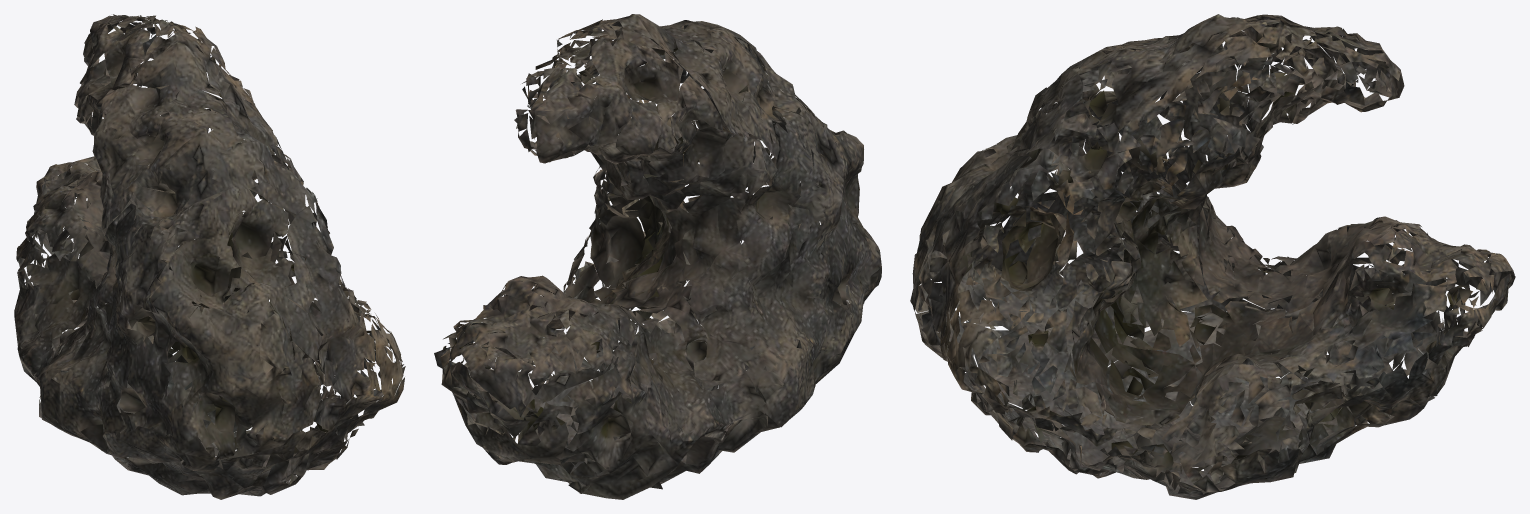
The model's file is asteroid_rare_4_lod1.glb.
3 views of the same model, side by side, from view 1: azimuth 30°, elevation 25°; view 2: azimuth 150°, elevation 25°; view 3: azimuth 270°, elevation 25° (orthographic). The views are drawn at different scales.
Parts seen in each view (by area): view 1: model; view 2: model; view 3: model.
Part boxes in pixels (left/top/right/bottom): model: left=14, top=14, right=405, bottom=499; model: left=434, top=14, right=881, bottom=499; model: left=910, top=14, right=1515, bottom=499.
Bounding box in the file's own units: 1.08 × 1.57 × 1.9.
Materials: 1 (1 with a texture image).
